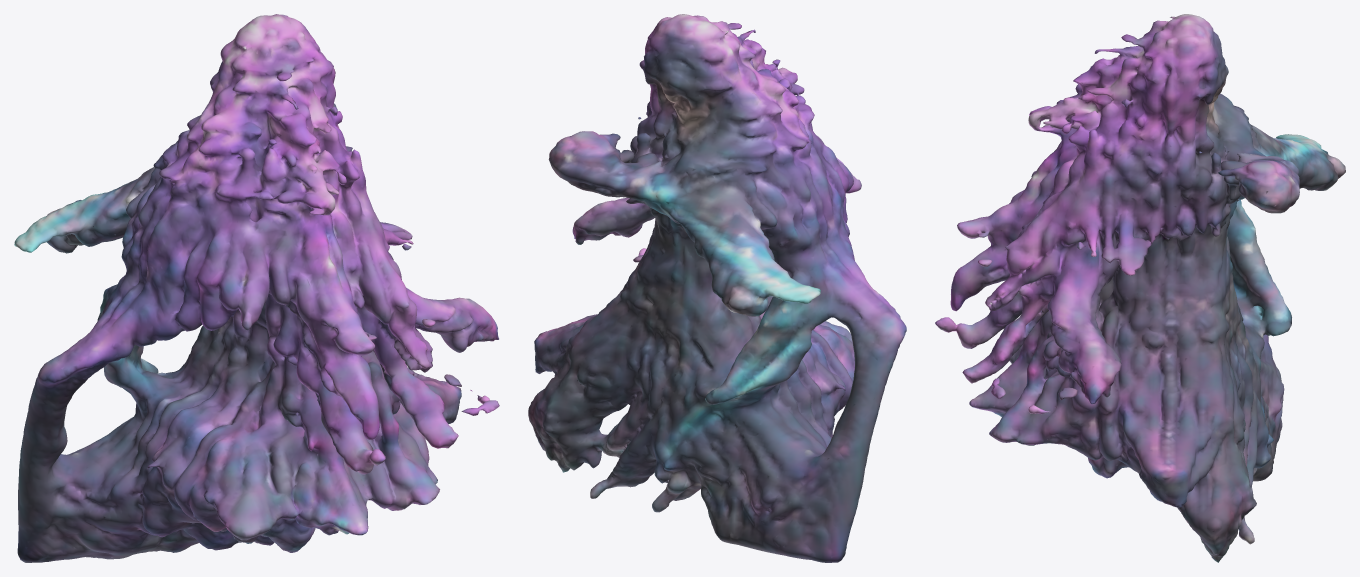
File: xianming-p2.glb
The picture shows the model from 3 angles, left to right: view 1: azimuth 30°, elevation 25°; view 2: azimuth 150°, elevation 25°; view 3: azimuth 270°, elevation 25°; orthographic projection. The views are drawn at different scales.
Visible parts, largest first — view 1: xianming-p2; view 2: xianming-p2; view 3: xianming-p2.
Part boxes in pixels (left/top/right/bottom): xianming-p2: left=14, top=14, right=499, bottom=562; xianming-p2: left=528, top=14, right=906, bottom=562; xianming-p2: left=935, top=14, right=1345, bottom=562.
Size of the model in its own units: 1.32 by 1.63 by 1.22.
